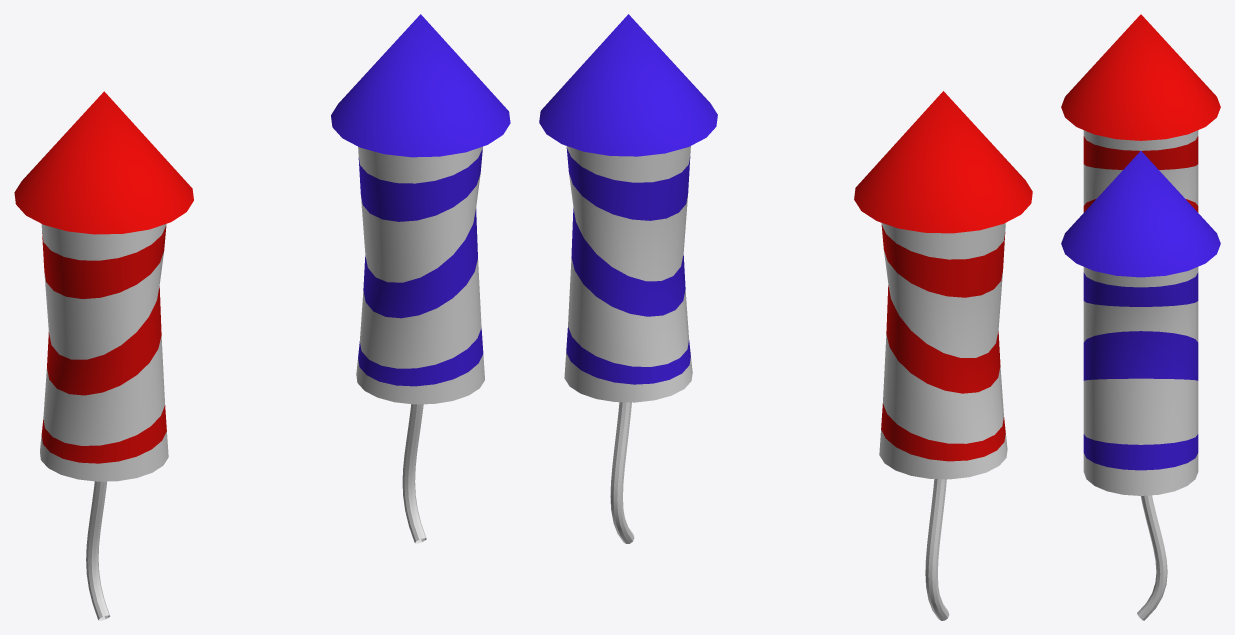
The picture shows the model from 3 angles, left to right: view 1: azimuth 30°, elevation 25°; view 2: azimuth 150°, elevation 25°; view 3: azimuth 270°, elevation 25°; orthographic projection. The views are drawn at different scales.
Visible parts, largest first — view 1: BezierCurve.001, BezierCurve; view 2: BezierCurve, BezierCurve.001; view 3: BezierCurve.001, BezierCurve.
Boxes of the visible parts, box(x1,y1,x2,y2) form: BezierCurve.001: box(331, 14, 510, 543); BezierCurve: box(14, 91, 193, 620); BezierCurve: box(854, 91, 1032, 620); BezierCurve.001: box(539, 14, 717, 543); BezierCurve.001: box(1061, 151, 1220, 620); BezierCurve: box(1061, 14, 1220, 212).
Bounding box in the file's own units: 94.26 × 101 × 31.18.
